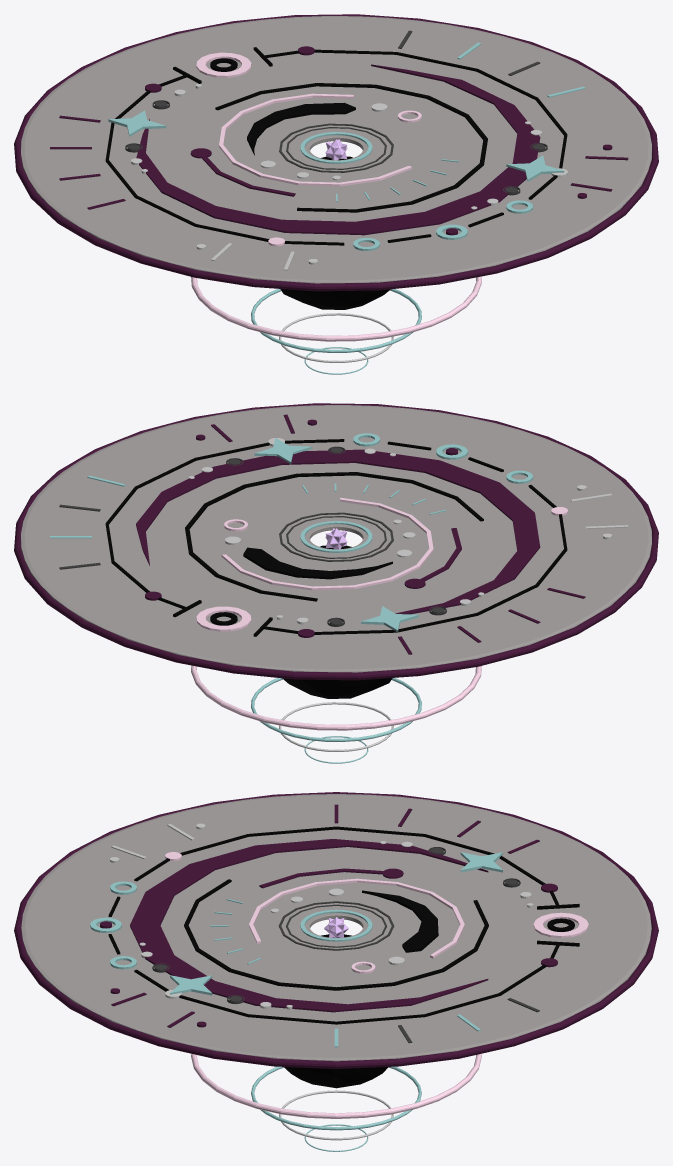
Rendered from balance star _st2.fbx.
3 renders of one model, top to bottom at view 1: azimuth 30°, elevation 25°; view 2: azimuth 150°, elevation 25°; view 3: azimuth 270°, elevation 25°, orthographic.
Visible parts, largest first — view 1: center_flat, flat_art_ring__out, moon_crescent, edge_art_ring1, center_art_ring7, flat_art_ring__in, center_art_ring5, sphere_star, center_art_ring4, small_art_star, flat_art_ring__out_001, edge_art_circle7 (+4 smaller); view 2: center_flat, flat_art_ring__out, moon_crescent, edge_art_ring1, flat_art_ring__in, center_art_ring7, center_art_ring5, sphere_star, center_art_ring4, small_art_star, flat_art_ring__out_001, edge_art_circle7 (+4 smaller); view 3: center_flat, moon_crescent, flat_art_ring__out, edge_art_ring1, flat_art_ring__in, center_art_ring7, center_art_ring5, sphere_star, center_art_ring4, small_art_star, flat_art_ring__out_001, edge_art_circle7 (+5 smaller).
Boxes of the visible parts, x1=… form: center_flat: x1=21, y1=16, x2=651, y2=283; flat_art_ring__out: x1=14, y1=14, x2=658, y2=291; moon_crescent: x1=136, y1=64, x2=540, y2=235; edge_art_ring1: x1=105, y1=49, x2=567, y2=245; center_art_ring7: x1=215, y1=83, x2=487, y2=212; flat_art_ring__in: x1=191, y1=276, x2=481, y2=341; center_art_ring5: x1=219, y1=93, x2=411, y2=186; sphere_star: x1=280, y1=156, x2=390, y2=309; center_art_ring4: x1=247, y1=102, x2=355, y2=155; small_art_star: x1=108, y1=110, x2=564, y2=181; flat_art_ring__out_001: x1=251, y1=288, x2=421, y2=352; edge_art_circle7: x1=196, y1=52, x2=251, y2=77; center_flat: x1=21, y1=405, x2=651, y2=672; flat_art_ring__out: x1=14, y1=403, x2=658, y2=680; moon_crescent: x1=136, y1=449, x2=540, y2=614; edge_art_ring1: x1=105, y1=439, x2=567, y2=634; flat_art_ring__in: x1=191, y1=665, x2=481, y2=730; center_art_ring7: x1=185, y1=472, x2=483, y2=601; center_art_ring5: x1=221, y1=497, x2=433, y2=590; sphere_star: x1=282, y1=545, x2=392, y2=698; center_art_ring4: x1=243, y1=547, x2=392, y2=579; small_art_star: x1=254, y1=438, x2=418, y2=632; flat_art_ring__out_001: x1=251, y1=677, x2=421, y2=741; edge_art_circle7: x1=196, y1=606, x2=251, y2=631; center_flat: x1=21, y1=794, x2=651, y2=1061; moon_crescent: x1=130, y1=839, x2=488, y2=1012; flat_art_ring__out: x1=14, y1=792, x2=658, y2=1068; edge_art_ring1: x1=108, y1=826, x2=559, y2=1024; flat_art_ring__in: x1=191, y1=1053, x2=481, y2=1118; center_art_ring7: x1=184, y1=879, x2=488, y2=990; center_art_ring5: x1=249, y1=878, x2=464, y2=958; sphere_star: x1=284, y1=934, x2=388, y2=1088; center_art_ring4: x1=362, y1=890, x2=438, y2=952; small_art_star: x1=170, y1=852, x2=502, y2=995; flat_art_ring__out_001: x1=251, y1=1066, x2=421, y2=1130; edge_art_circle7: x1=533, y1=912, x2=588, y2=937.
Size of the model in its own units: 203 by 76.93 by 203.
